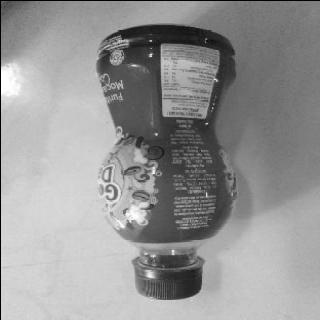plastic_bottles: (93, 22, 238, 304)
